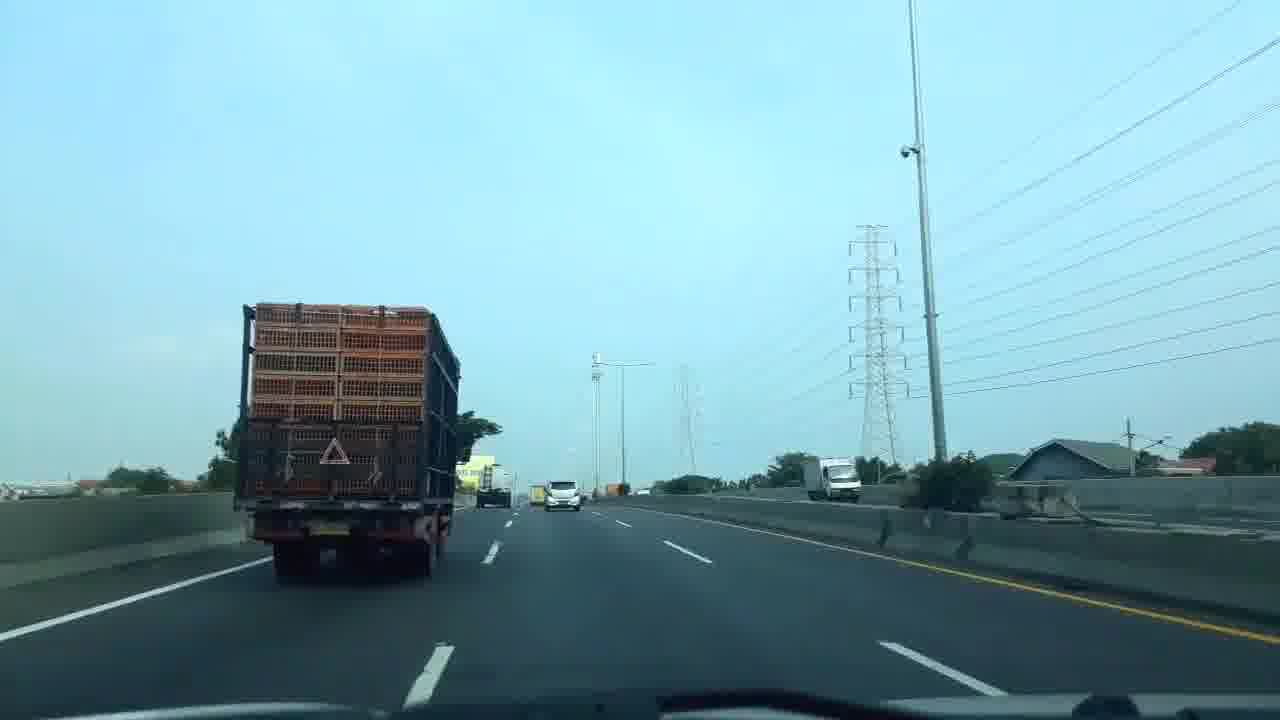plate_positive: (308, 520, 351, 536)
